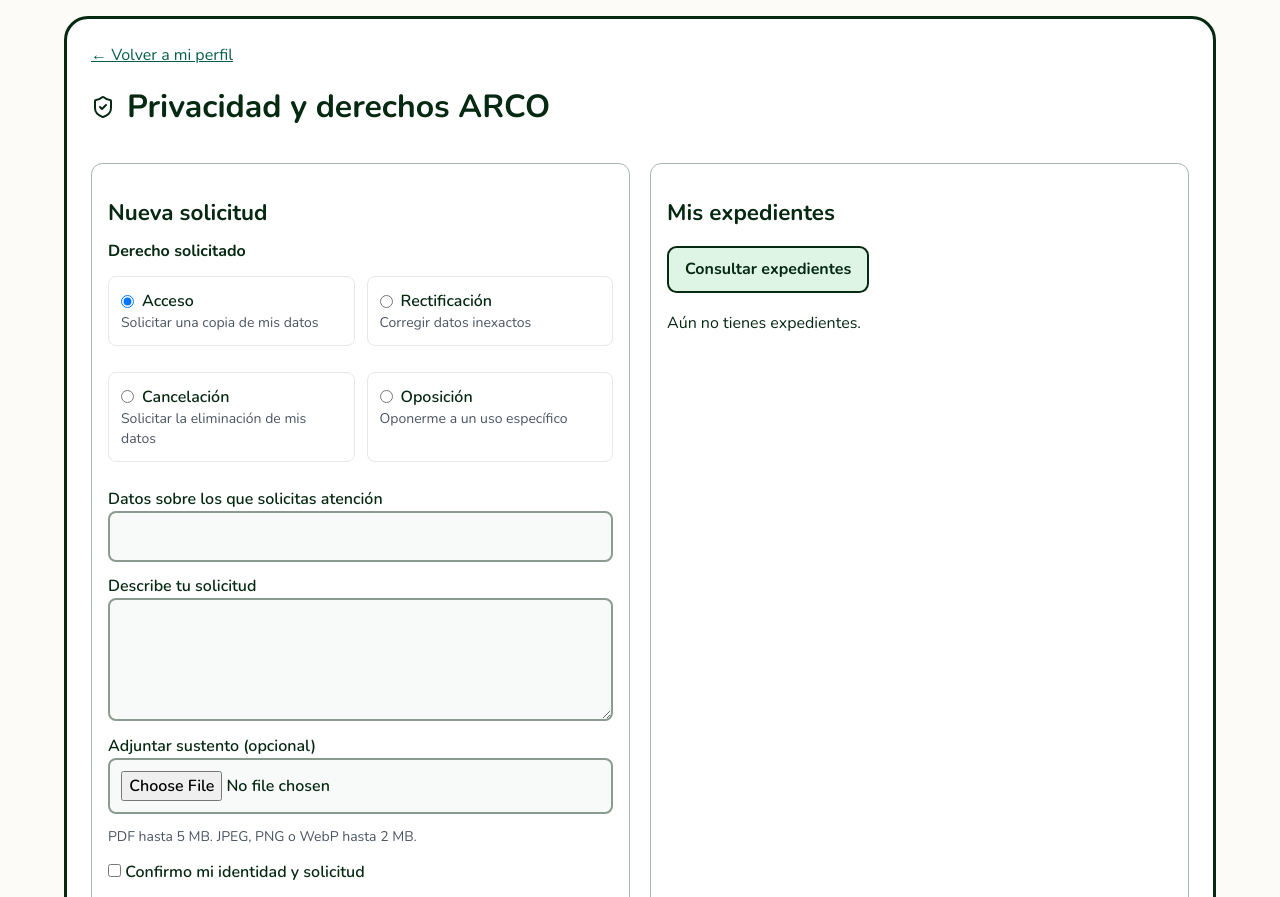
leaves the application editable after a server failure
The width and height of the screenshot is (1280, 897).
Expected: the text "Aún no tienes expedientes." is shown, [667,312,861,334]
Type "Correo de mi perfil" into the field labelled "Datos sobre los que solicitas atención" at {"x": 360, "y": 536}, box [108,511,613,562]
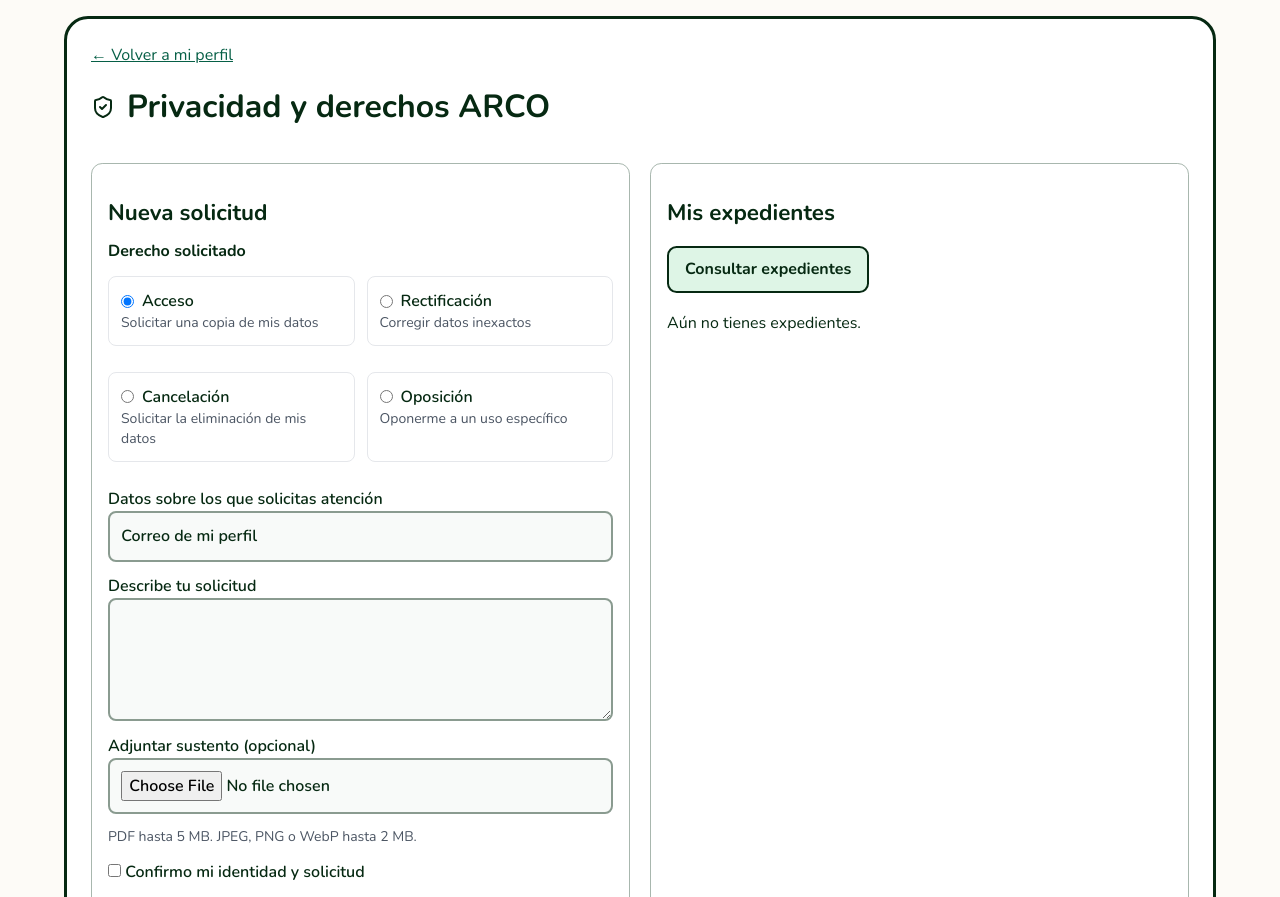
Type "El correo registrado está desactualizado." into the text box labelled "Describe tu solicitud" at {"x": 360, "y": 660}, box [108,598,613,721]
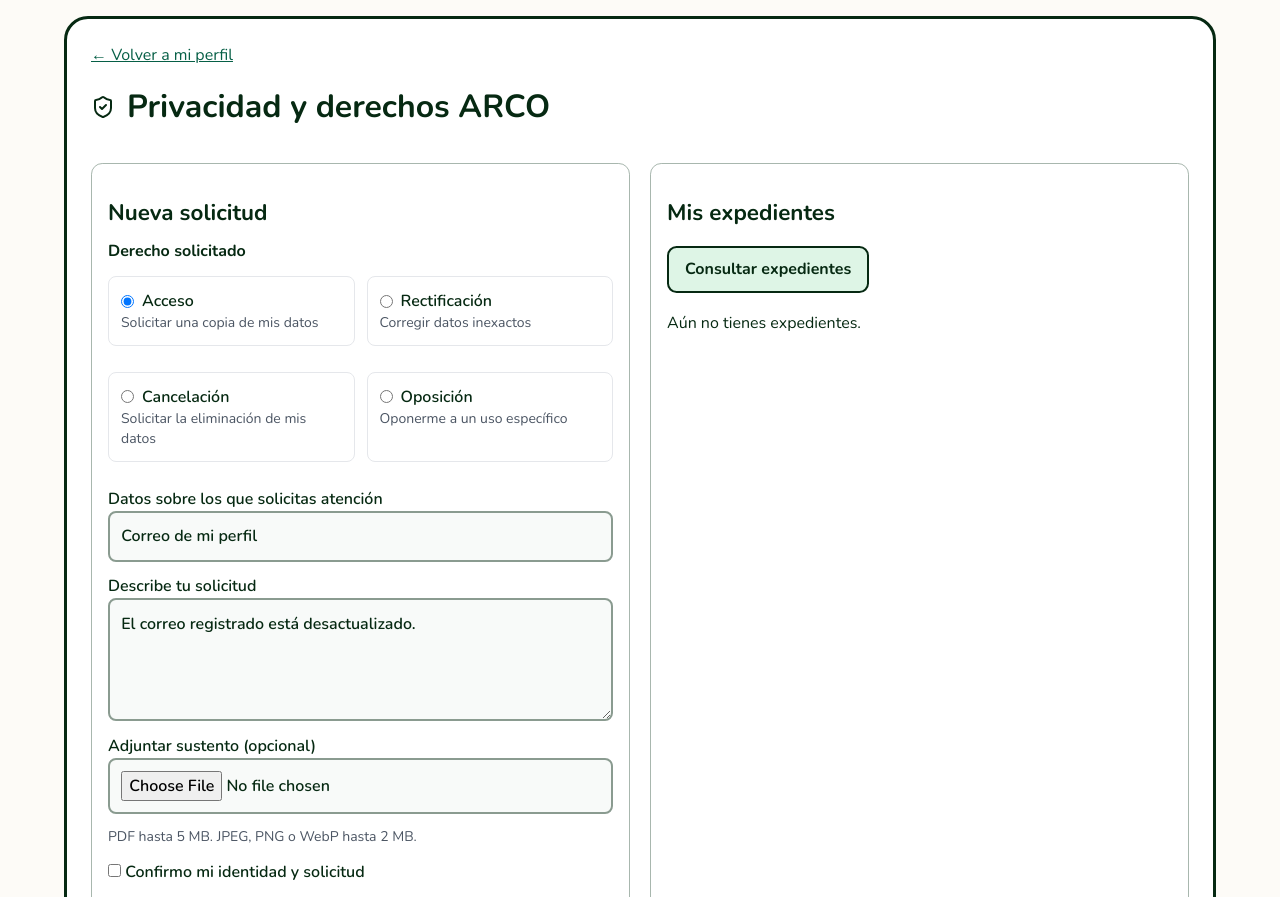
Click the checkbox labelled "Confirmo mi identidad y solicitud" at {"x": 114, "y": 870}, box [108,864,121,876]
(page scrolled)
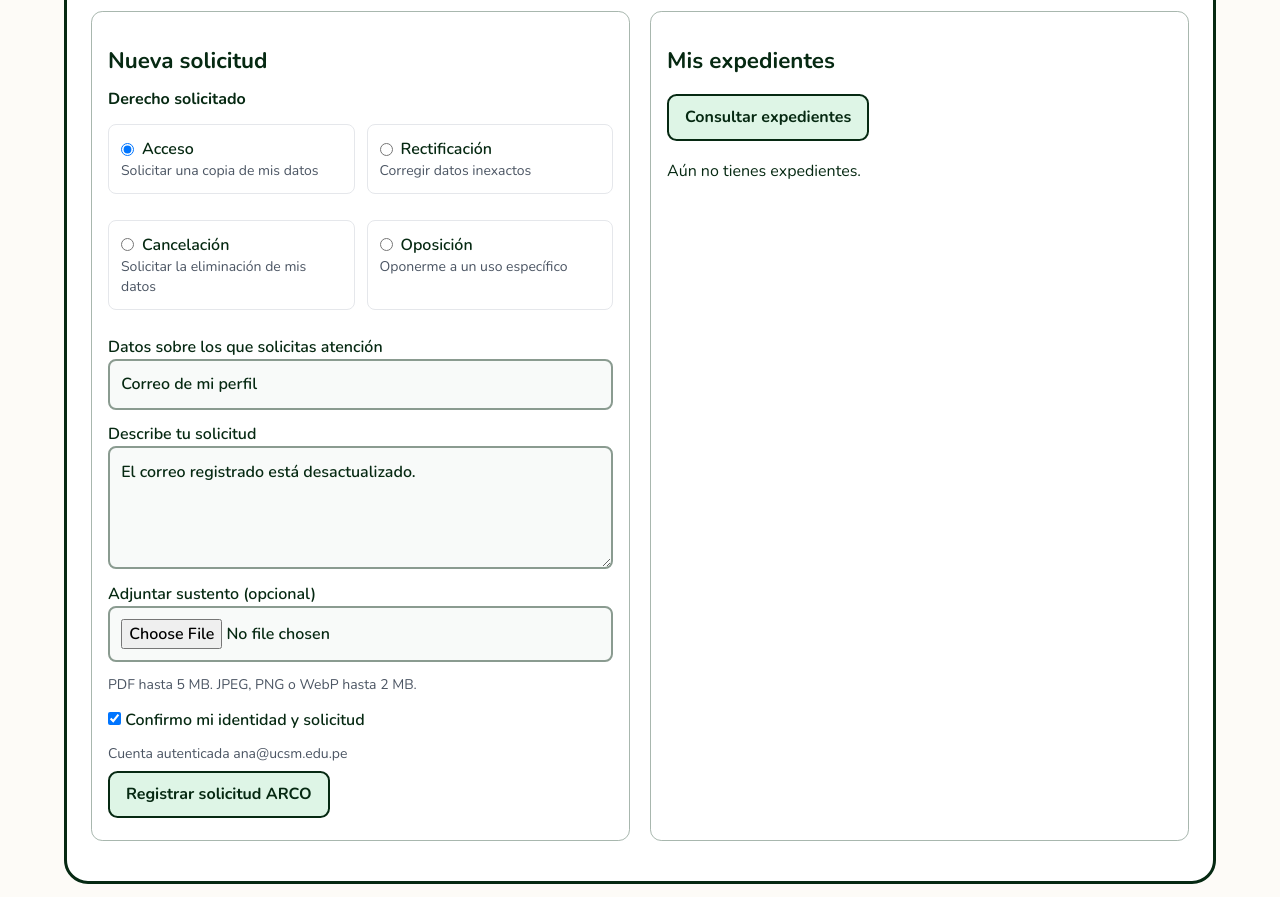
Click the button "Registrar solicitud ARCO" at {"x": 219, "y": 794}, box [108,771,330,818]
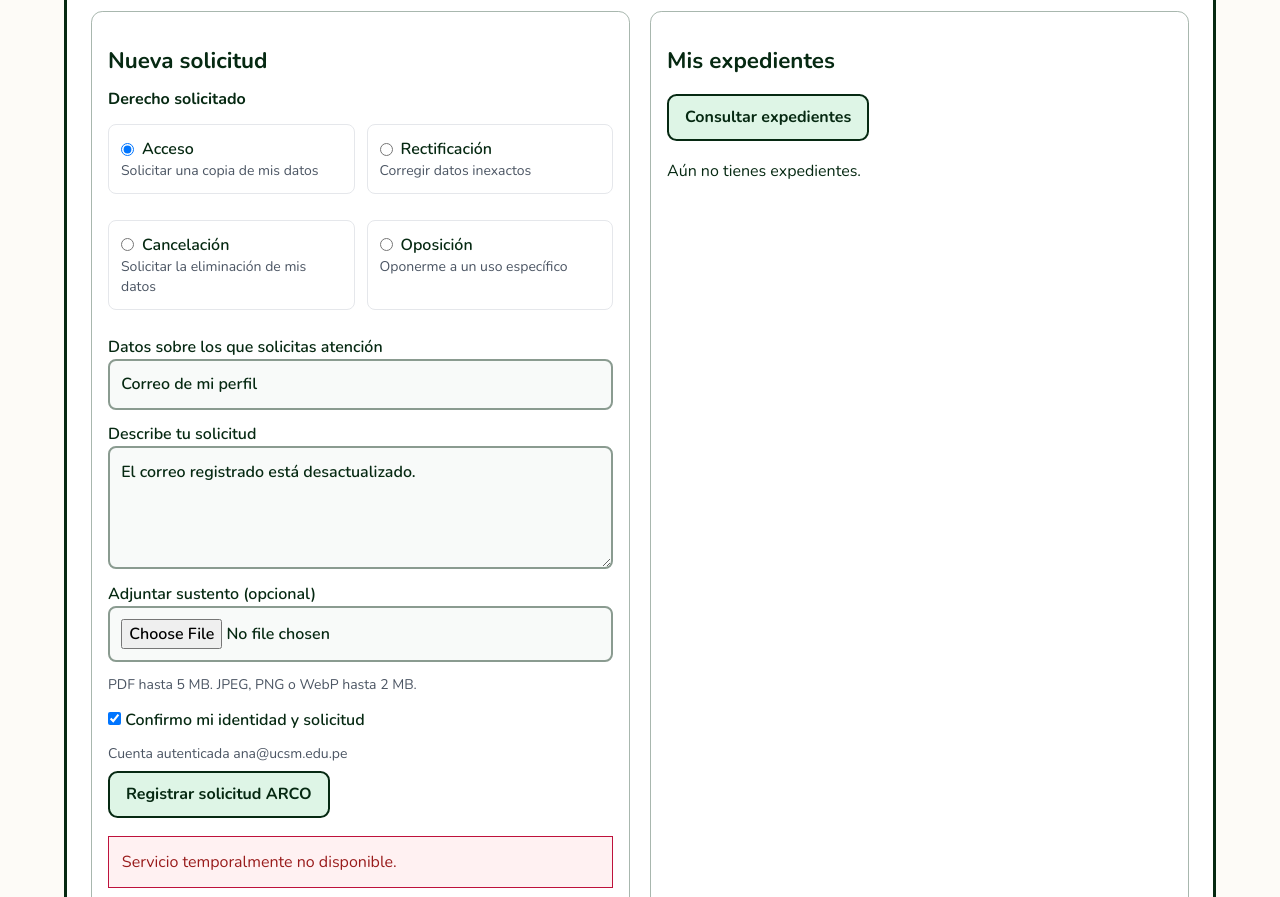
Result: the message reads "Servicio temporalmente no disponible." at [122,851,397,873]
